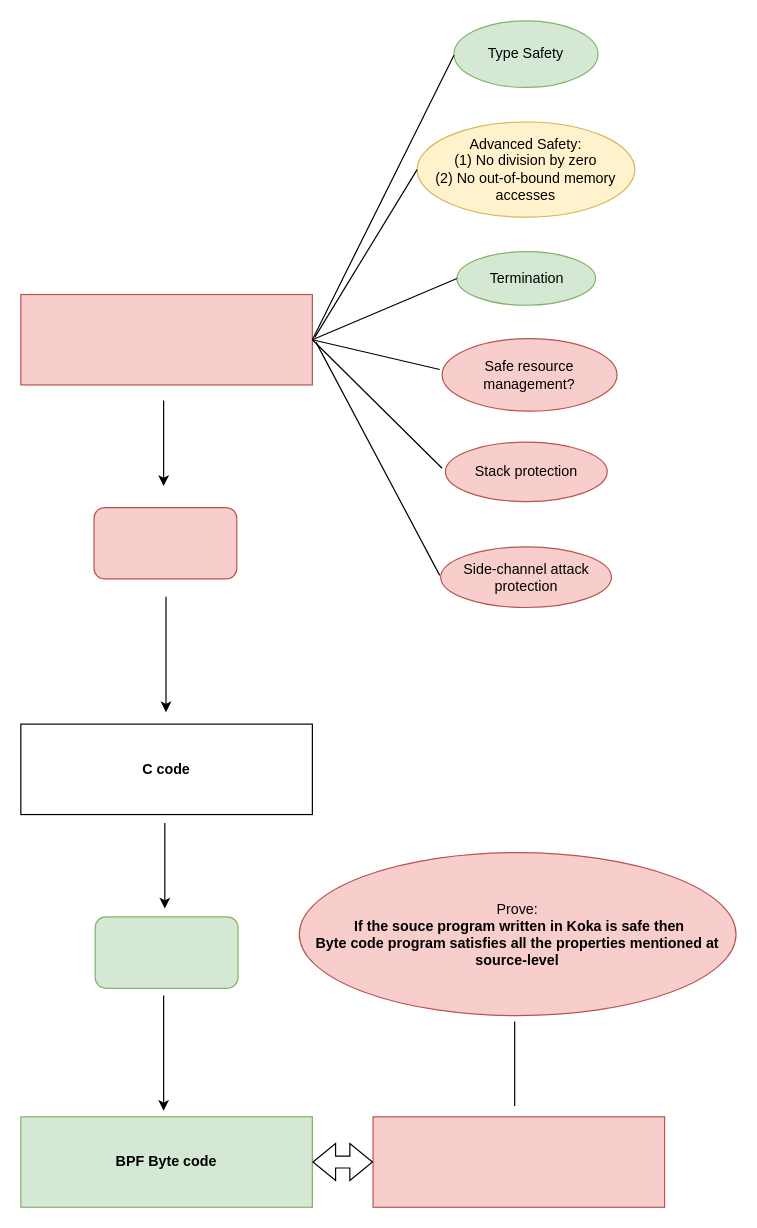
The diagram is 757 pixels wide and 1228 high, and some of its shapes have lost their labels. The centre of each missing label's shape, as x and y in pixels:
BPF Byte code in Coq: the point at 518,1161
C compiler: the point at 166,952
Koka++: the point at 166,339
Koka++ compiler: the point at 165,542
